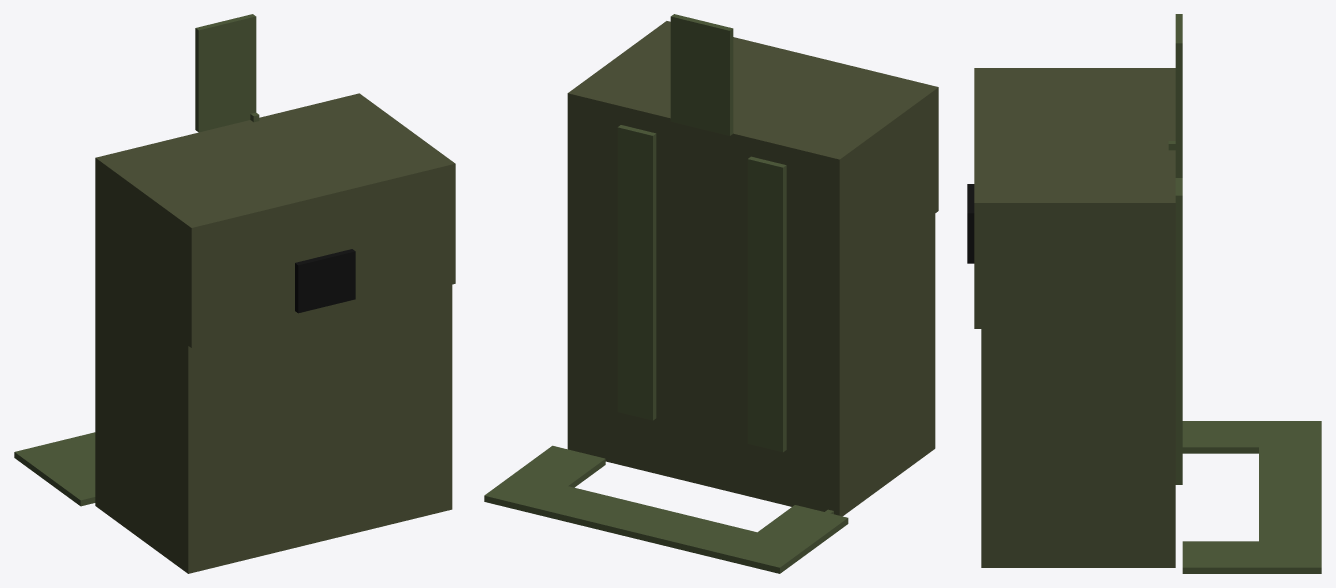
The model's file is gas_mask_pouch.glb.
The picture shows the model from 3 angles, left to right: view 1: azimuth 30°, elevation 25°; view 2: azimuth 150°, elevation 25°; view 3: azimuth 270°, elevation 25°; orthographic projection. The views are drawn at different scales.
Parts seen in each view (by area): view 1: gas_mask_pouch:compound; view 2: gas_mask_pouch:compound; view 3: gas_mask_pouch:compound.
Part boxes in pixels (x1,y1,x2,y2): gas_mask_pouch:compound: [14, 14, 455, 573]; gas_mask_pouch:compound: [484, 14, 938, 573]; gas_mask_pouch:compound: [967, 14, 1321, 573].
Size of the model in its own units: 0.2 by 0.3 by 0.204.
